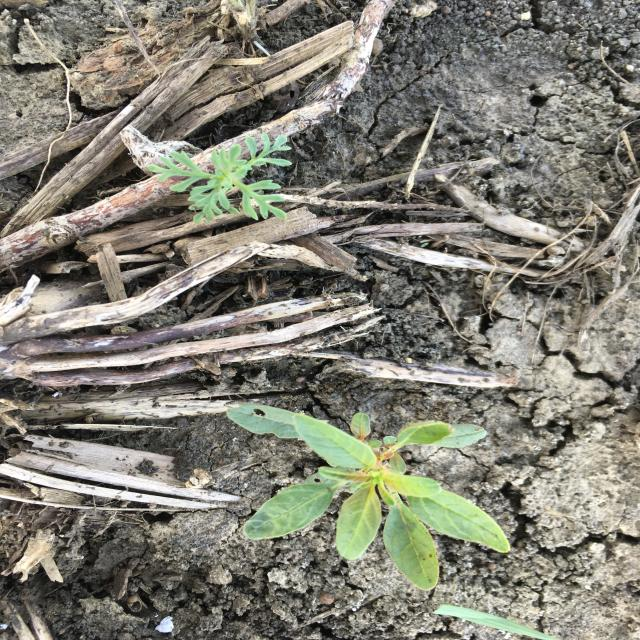Ragweed: (146, 131, 294, 224)
Waterhemp: (225, 403, 513, 592)
